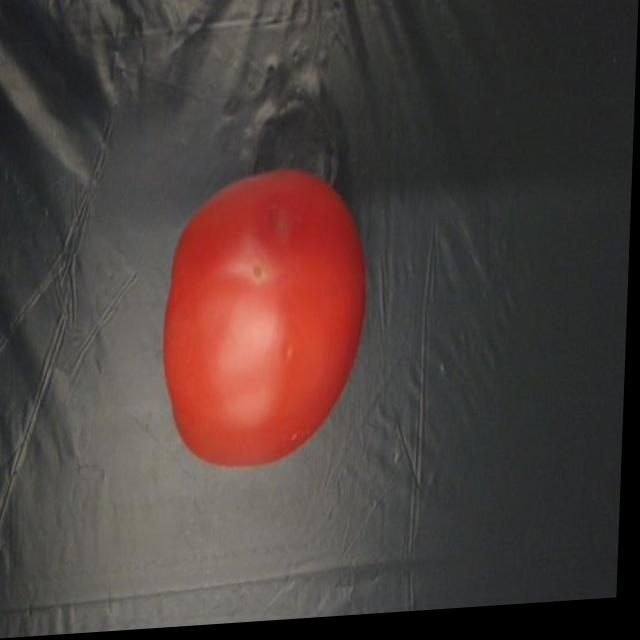kirmizi: (141, 140, 407, 506)
